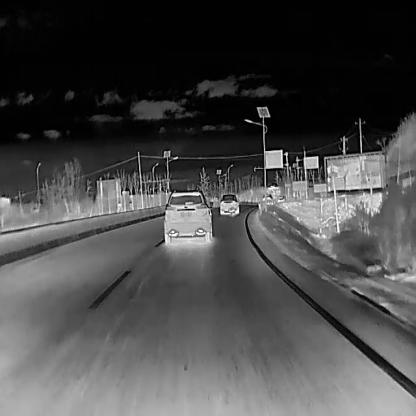car: (162, 190, 213, 245), (219, 192, 239, 214), (261, 193, 274, 205), (276, 195, 284, 202)
